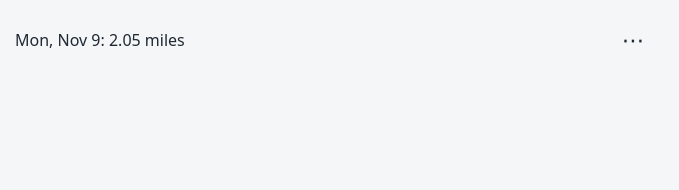
Test: RunList › hides Edit and Delete until you open the run's menu
Click the button named "Actions for Mon, Nov 9 run" at (633, 40), box [611,18,655,62]
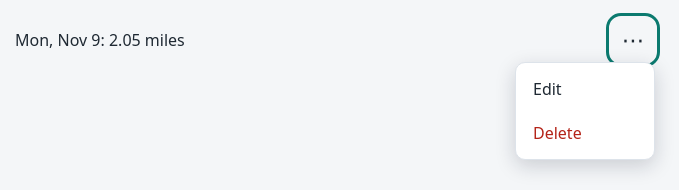
Expected: the menu items read "Edit", "Delete", in this order, [520,67,650,111]; [520,111,650,155]
